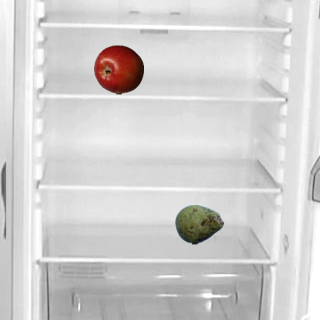Apple Braeburn: (93, 44, 143, 94)
Pear Stone: (174, 199, 224, 249)
